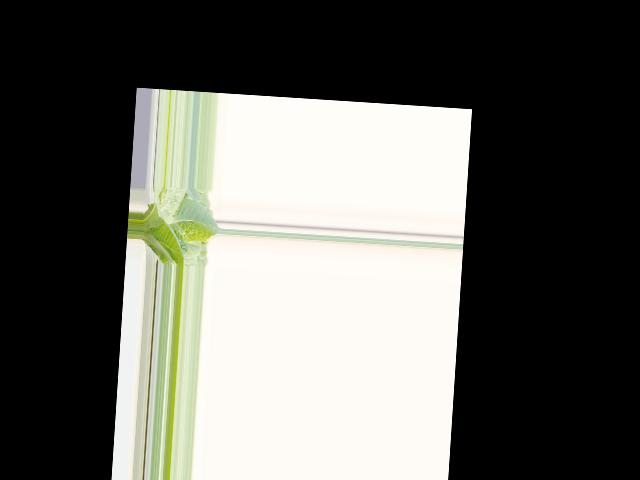lettuce: (139, 192, 215, 265)
